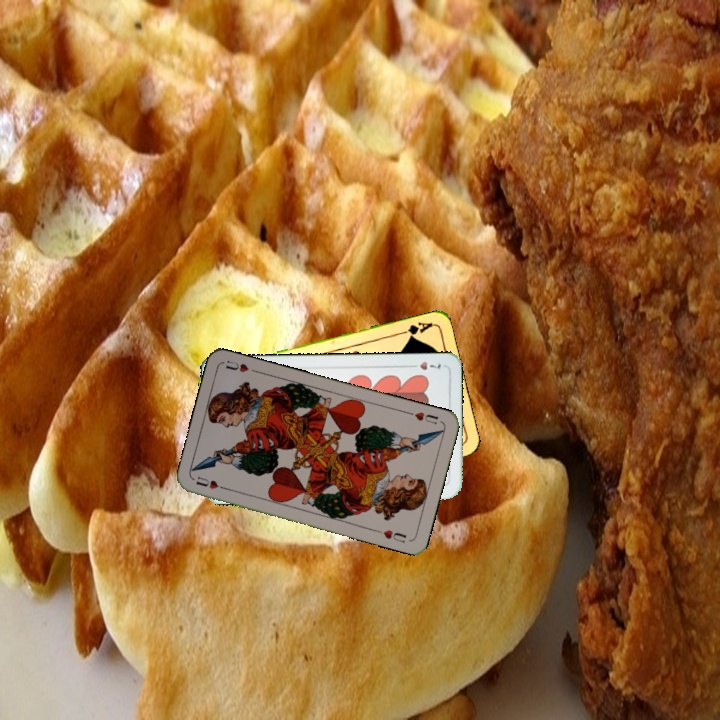GA: (395, 318, 435, 341)
H7: (405, 357, 443, 372)
HU: (192, 472, 230, 492), (404, 408, 441, 427)
